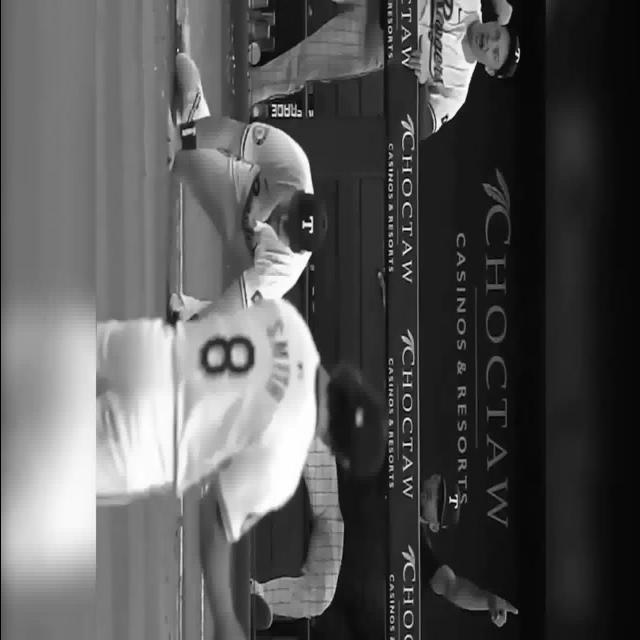base: (175, 1, 190, 56)
shoe: (174, 53, 202, 124)
